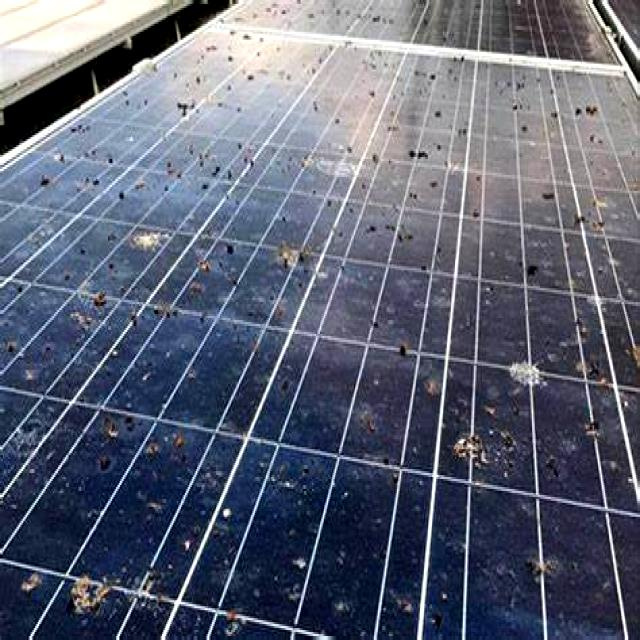bird: (354, 87, 464, 212), (95, 382, 195, 495), (528, 180, 622, 298), (99, 199, 214, 295), (163, 70, 256, 174), (504, 61, 609, 150), (260, 173, 322, 321), (271, 528, 354, 624), (486, 326, 572, 400), (388, 298, 450, 400), (451, 400, 526, 480), (62, 570, 134, 636), (54, 294, 126, 336), (360, 214, 430, 248), (12, 555, 56, 603), (518, 551, 572, 589), (196, 586, 232, 640), (218, 499, 242, 548)
